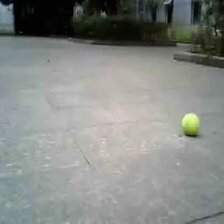tennis: (183, 113, 199, 134)
